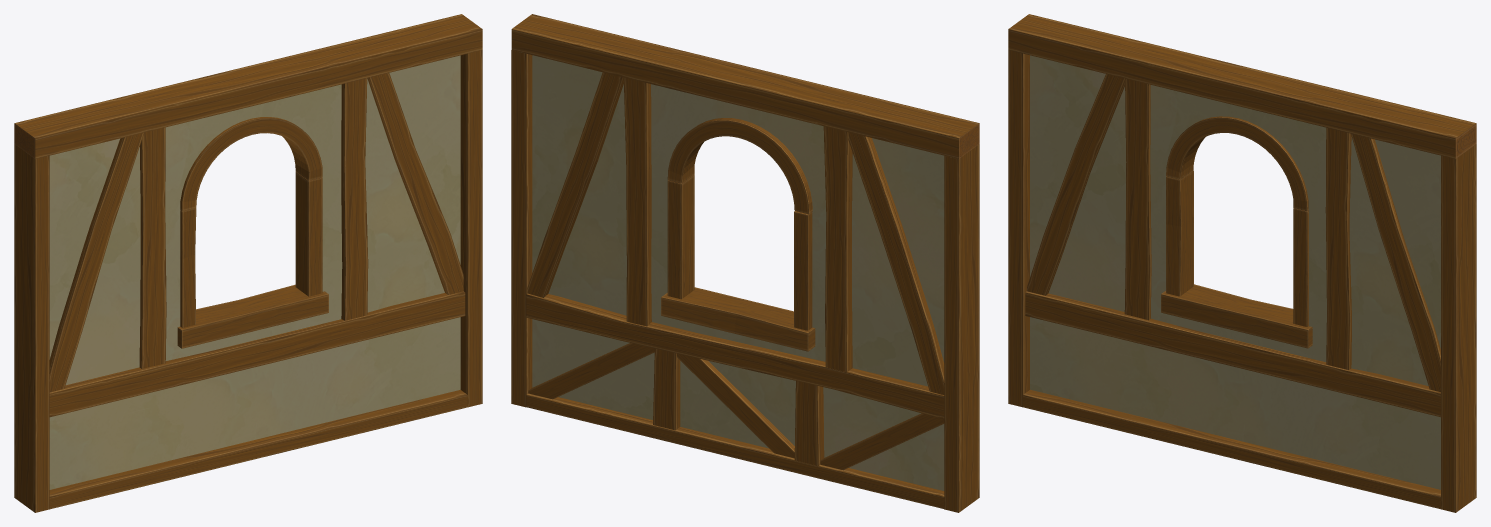
Rendered from SM_House_Wall_5x4_Window_C_03.fbx.
3 views of the same model, side by side, from view 1: azimuth 30°, elevation 25°; view 2: azimuth 150°, elevation 25°; view 3: azimuth 330°, elevation 25° (orthographic).
Parts seen in each view (by area): view 1: SM_House_Wall_5x4_Window_C_03; view 2: SM_House_Wall_5x4_Window_C_03; view 3: SM_House_Wall_5x4_Window_C_03.
Part boxes in pixels (x1,y1,x2,y2): SM_House_Wall_5x4_Window_C_03: (14,14,482,512); SM_House_Wall_5x4_Window_C_03: (511,14,979,512); SM_House_Wall_5x4_Window_C_03: (1008,14,1476,512).
Bounding box in the file's own units: 5 × 4 × 0.4216.
